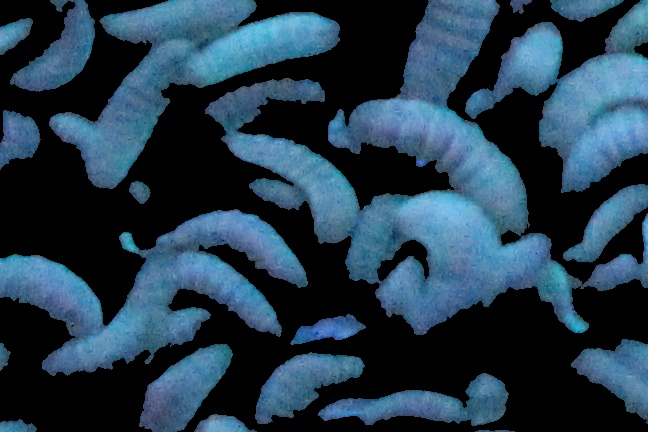larvae: (348, 98, 551, 233), (34, 252, 181, 393), (82, 40, 196, 196), (401, 196, 505, 350), (232, 130, 362, 243), (160, 246, 289, 345), (153, 213, 310, 284), (406, 1, 508, 107), (182, 76, 336, 146), (537, 41, 648, 135), (1, 255, 113, 345), (198, 10, 344, 77), (557, 96, 648, 187), (146, 347, 234, 432), (485, 15, 567, 103), (10, 1, 91, 88), (95, 2, 257, 43), (258, 353, 361, 415), (577, 172, 647, 256), (343, 193, 405, 283), (364, 383, 467, 426), (1, 107, 54, 186), (487, 227, 548, 292), (603, 1, 647, 53), (46, 110, 97, 148)
